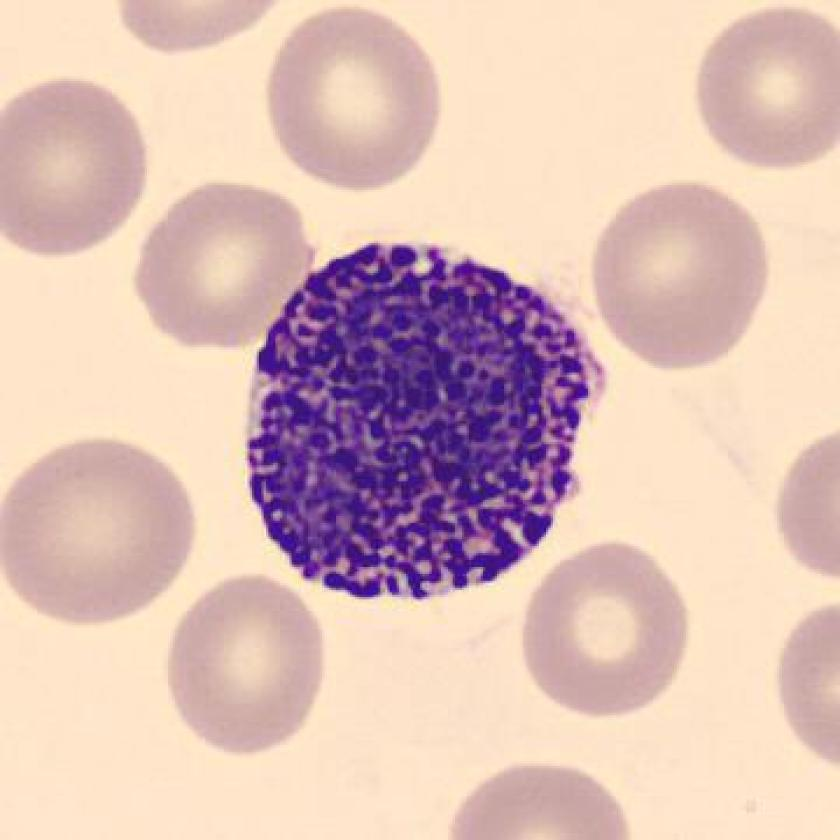basophil: (241, 239, 610, 612)
